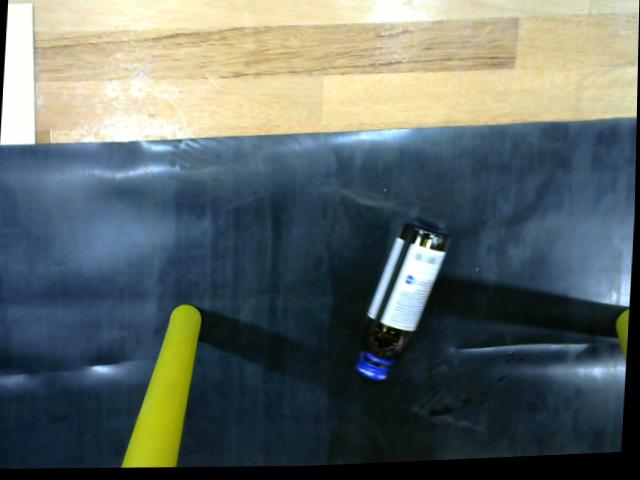glass: (350, 219, 460, 395)
